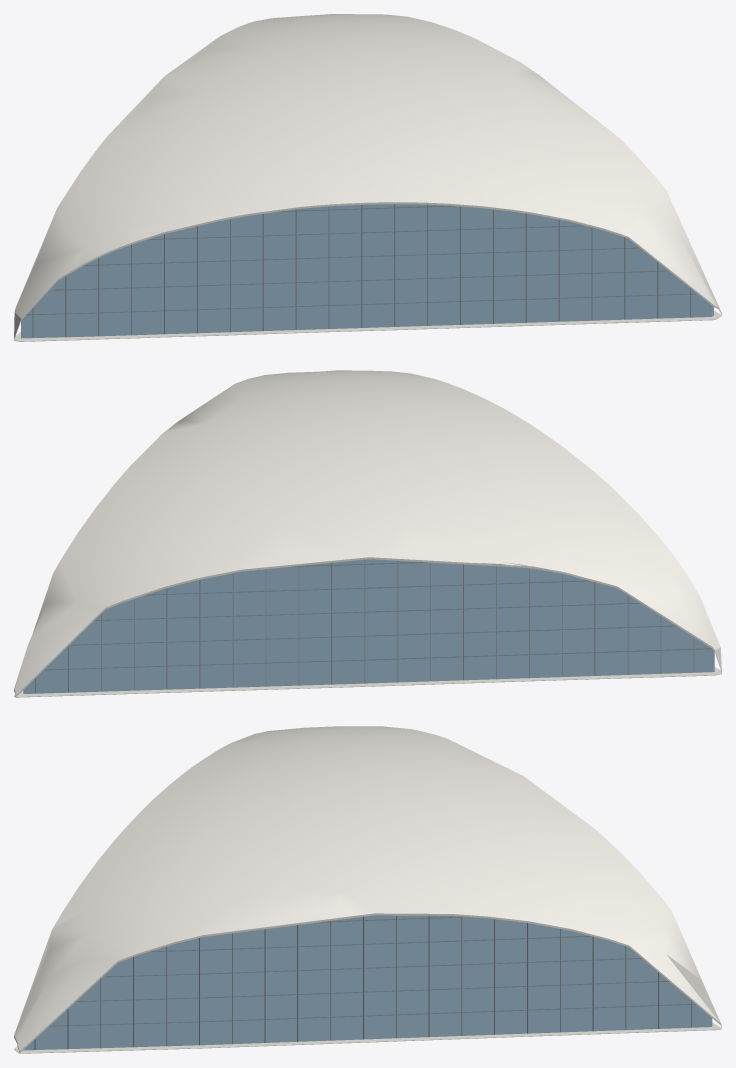
Rendered from detail.glb.
The picture shows the model from 3 angles, top to bottom: view 1: azimuth 30°, elevation 25°; view 2: azimuth 150°, elevation 25°; view 3: azimuth 270°, elevation 25°; orthographic projection.
Parts seen in each view (by area): view 1: trim, metal, roof, stone; view 2: trim, metal, roof, stone; view 3: trim, metal, roof, stone.
Part boxes in pixels (bbox=[...]): trim: bbox=[14, 14, 721, 339]; metal: bbox=[21, 204, 713, 338]; roof: bbox=[26, 204, 695, 337]; stone: bbox=[14, 310, 721, 341]; trim: bbox=[14, 370, 721, 696]; metal: bbox=[23, 559, 714, 693]; roof: bbox=[35, 559, 711, 693]; stone: bbox=[14, 667, 721, 697]; trim: bbox=[14, 726, 721, 1052]; metal: bbox=[23, 915, 712, 1050]; roof: bbox=[34, 915, 695, 1049]; stone: bbox=[14, 1022, 721, 1053].
Bounding box in the file's own units: 195 × 50 × 215.
